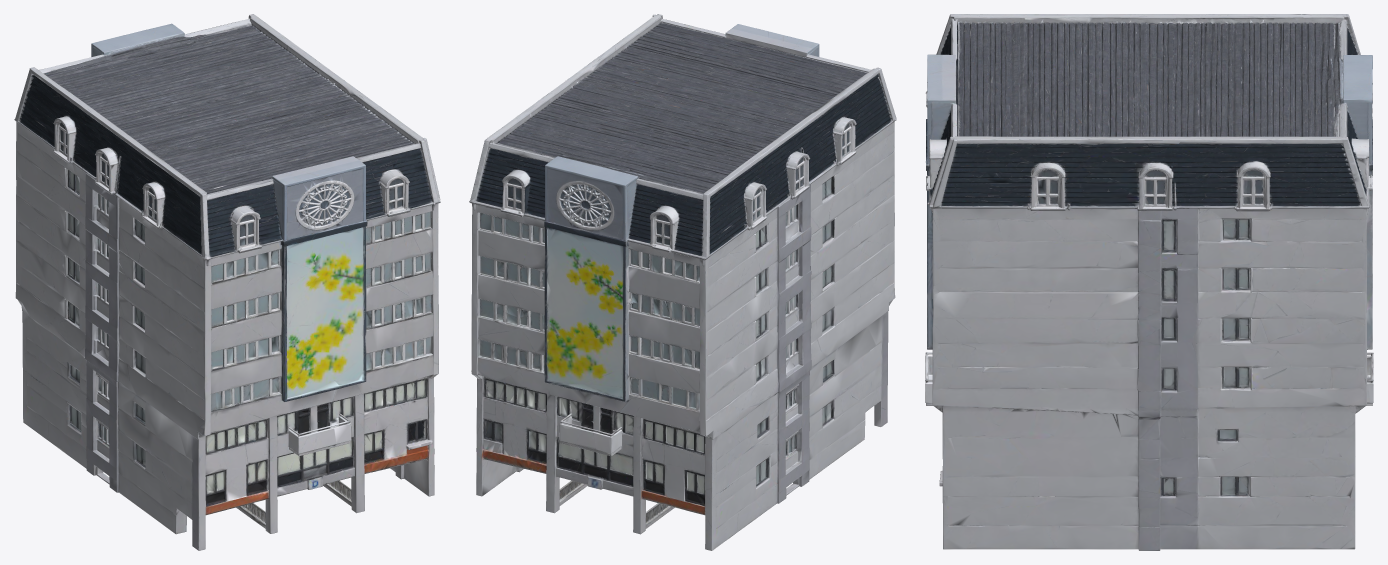
The model's file is toa_d.glb.
The picture shows the model from 3 angles, left to right: view 1: azimuth 30°, elevation 25°; view 2: azimuth 150°, elevation 25°; view 3: azimuth 270°, elevation 25°; orthographic projection. The views are drawn at different scales.
Size of the model in its own units: 1.38 by 1.9 by 1.9.
Materials: 1 (1 with a texture image).
